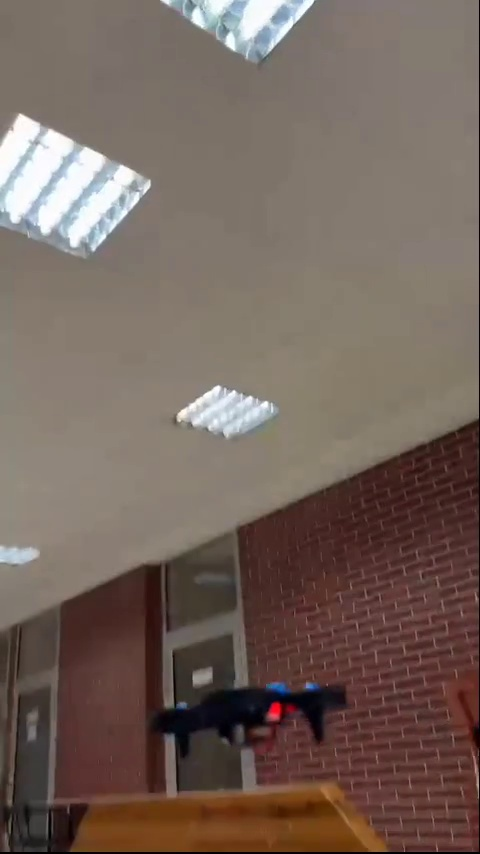drone: (150, 682, 341, 757)
